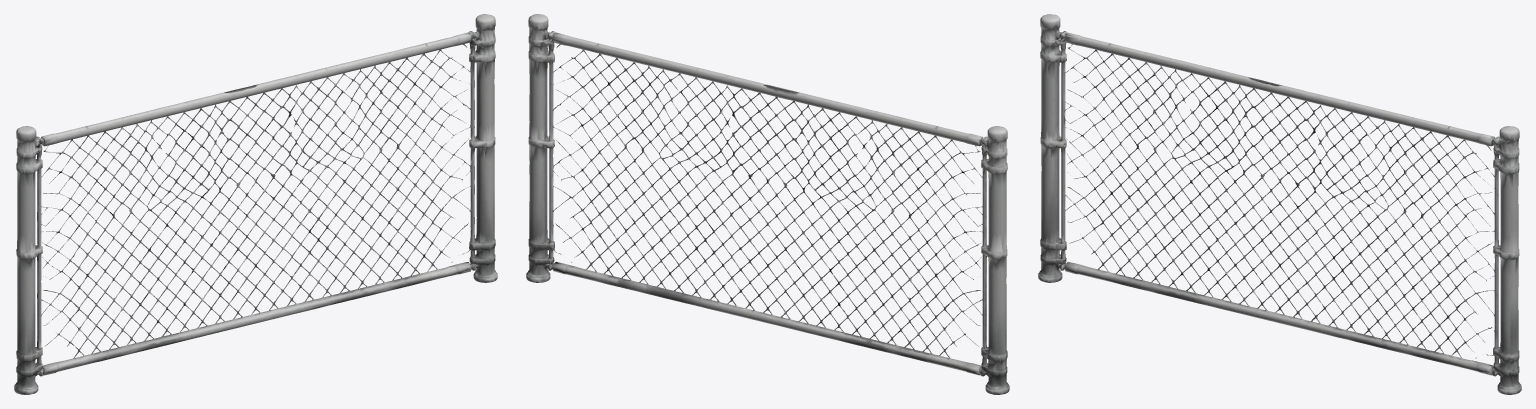
Rendered from bauzaun.glb.
3 views of the same model, side by side, from view 1: azimuth 30°, elevation 25°; view 2: azimuth 150°, elevation 25°; view 3: azimuth 330°, elevation 25° (orthographic).
Size of the model in its own units: 1.9 by 0.9885 by 0.0832.
1 material, 1 textured.
